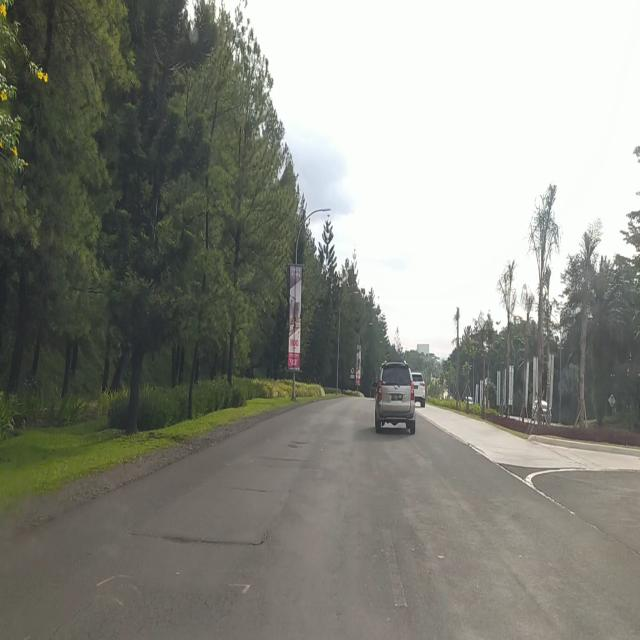Sewer Cover: (133, 528, 264, 550), (209, 479, 293, 494), (244, 454, 304, 463)
